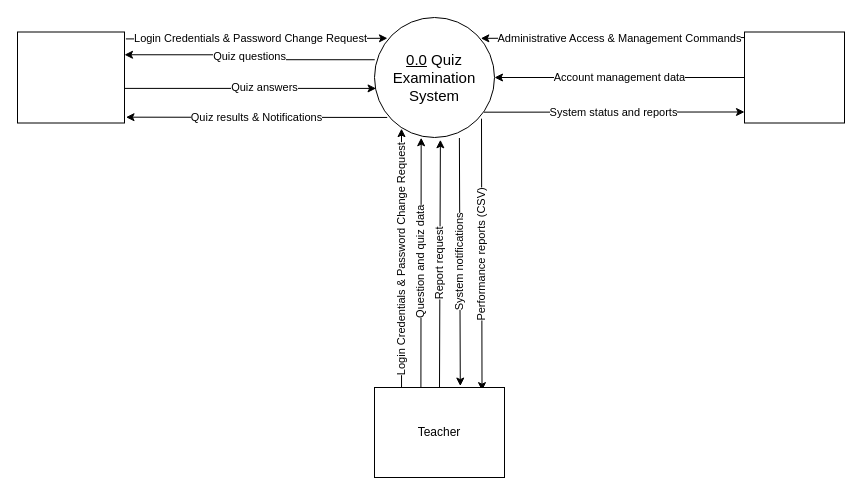
Image size: 862x495. Some labels were removed from this diagram. The box of each missing label's shape, as (x1, y1, x2, y2) in pixels:
Admin: (744, 31, 844, 123)
Student: (16, 31, 124, 123)
